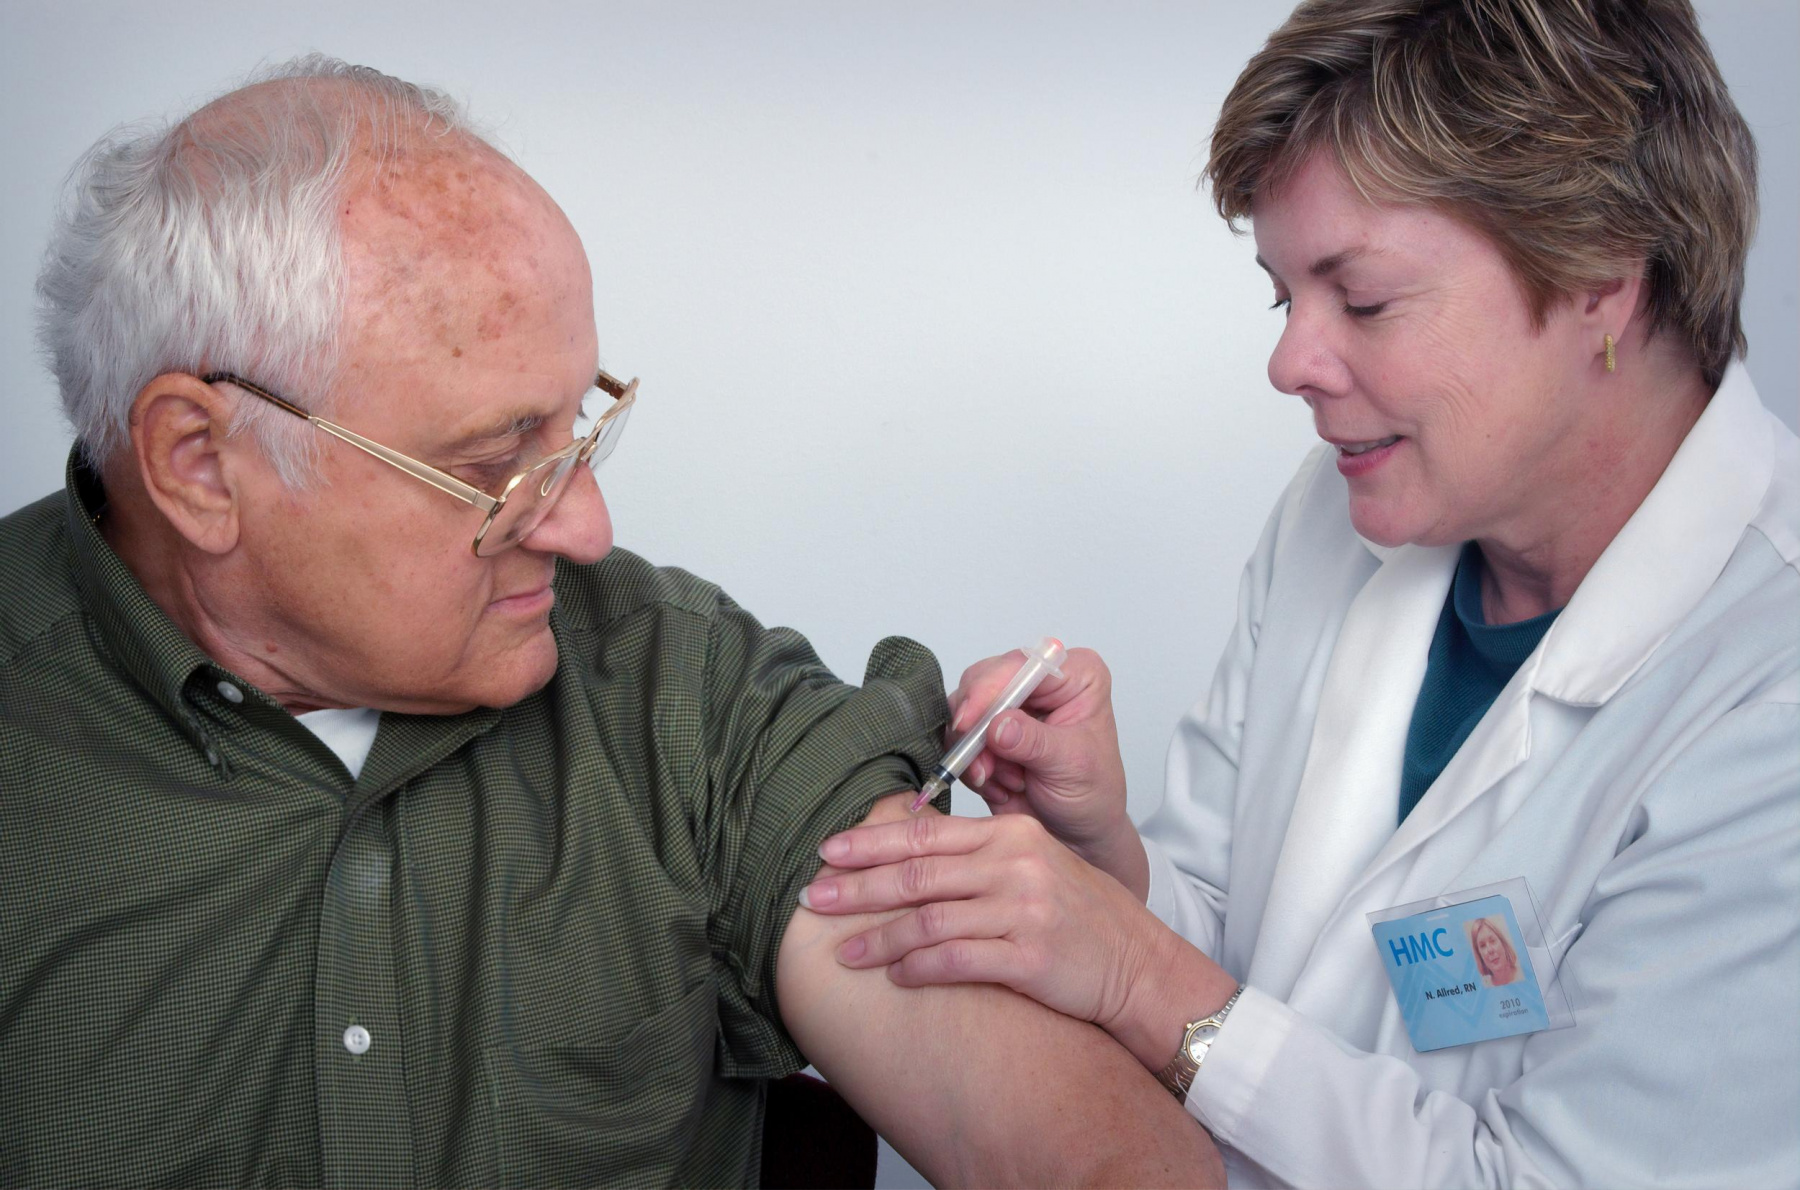without_mask: (247, 280, 621, 737), (1257, 138, 1519, 547)
